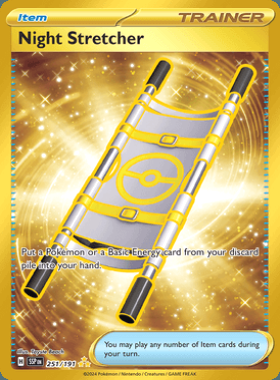Night_Stretcher: (0, 0, 280, 380)
